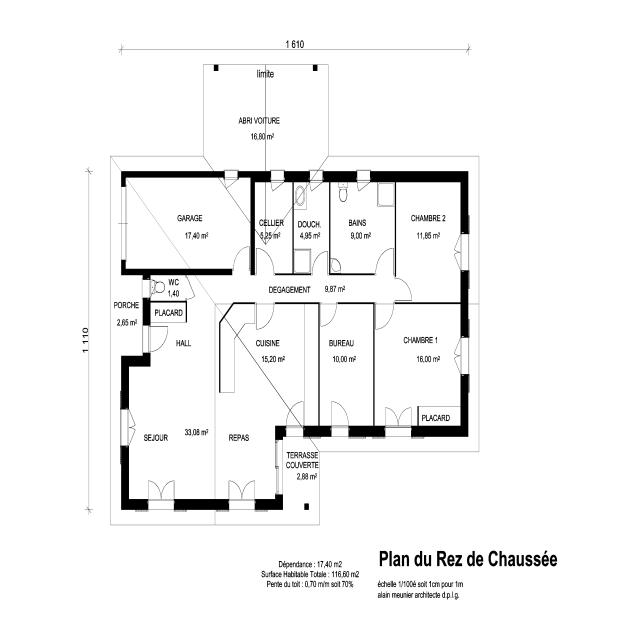door: (373, 408, 423, 430), (217, 481, 268, 502), (135, 482, 186, 502), (279, 404, 313, 428), (324, 403, 356, 428), (248, 304, 282, 327), (141, 328, 175, 350), (369, 306, 400, 328), (370, 250, 400, 271), (226, 249, 256, 270), (313, 306, 342, 326), (250, 251, 279, 271), (263, 170, 291, 190), (389, 280, 419, 298), (307, 252, 334, 272), (349, 174, 377, 191), (303, 174, 329, 190)
window: (118, 187, 128, 260), (116, 412, 136, 446), (453, 235, 470, 267), (272, 448, 284, 490), (454, 339, 470, 369), (302, 172, 332, 186)
zone: (128, 366, 216, 493), (126, 176, 249, 266), (376, 305, 462, 427), (393, 182, 461, 299), (220, 328, 317, 398), (318, 304, 374, 424), (330, 179, 395, 273), (217, 402, 278, 496), (255, 182, 293, 269), (296, 182, 330, 270), (142, 303, 196, 322)
